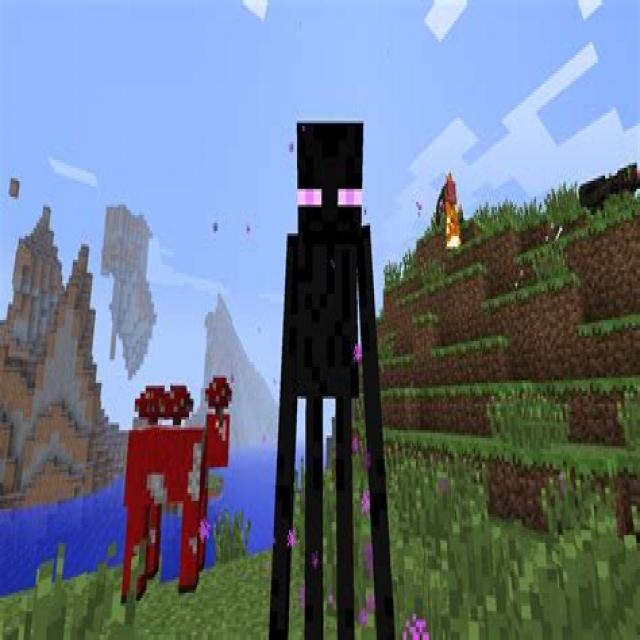Enderman: (265, 102, 393, 640)
